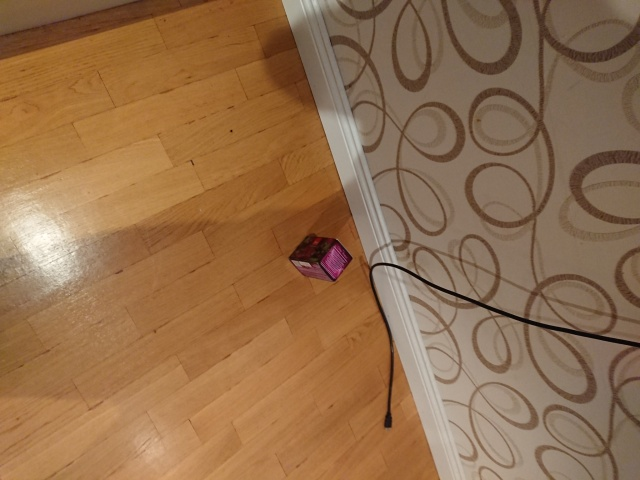Franck Black Currant Tea 60g: (287, 234, 355, 283)
